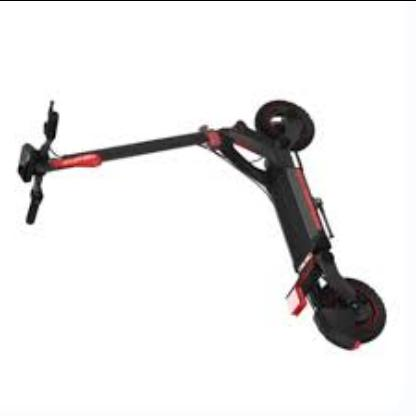bike: (18, 98, 389, 354)
